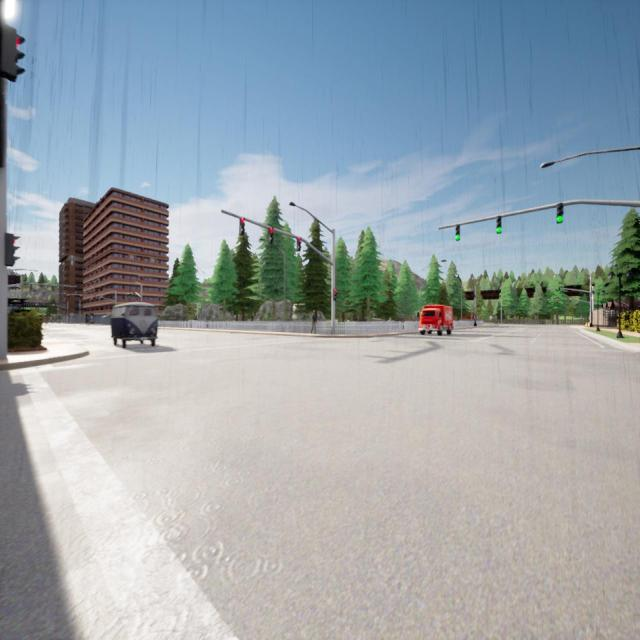Pedestrian: (311, 310, 317, 333)
Traffic_Signs: (489, 316, 492, 319)
Vehicle: (112, 303, 156, 347), (420, 304, 452, 334)
traffic_light: (0, 26, 25, 82), (5, 233, 20, 266), (557, 204, 563, 223), (240, 218, 244, 235), (269, 227, 273, 243), (456, 225, 460, 240), (497, 217, 501, 232), (297, 237, 301, 251), (333, 289, 337, 299), (94, 295, 96, 299), (556, 298, 558, 301), (68, 294, 69, 298), (80, 294, 81, 298), (559, 288, 560, 292), (548, 299, 549, 301), (570, 298, 571, 300)
